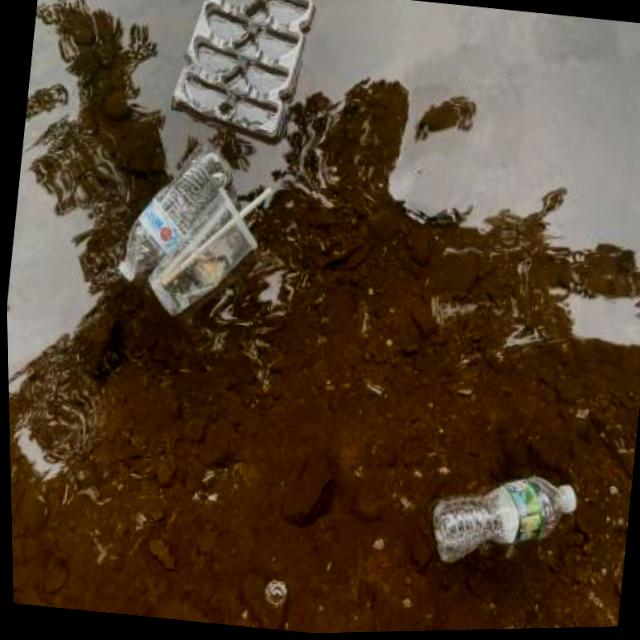Paper: (632, 100, 640, 187)
Plastic: (97, 130, 285, 327), (157, 0, 327, 153), (417, 452, 586, 588), (632, 26, 640, 80)
